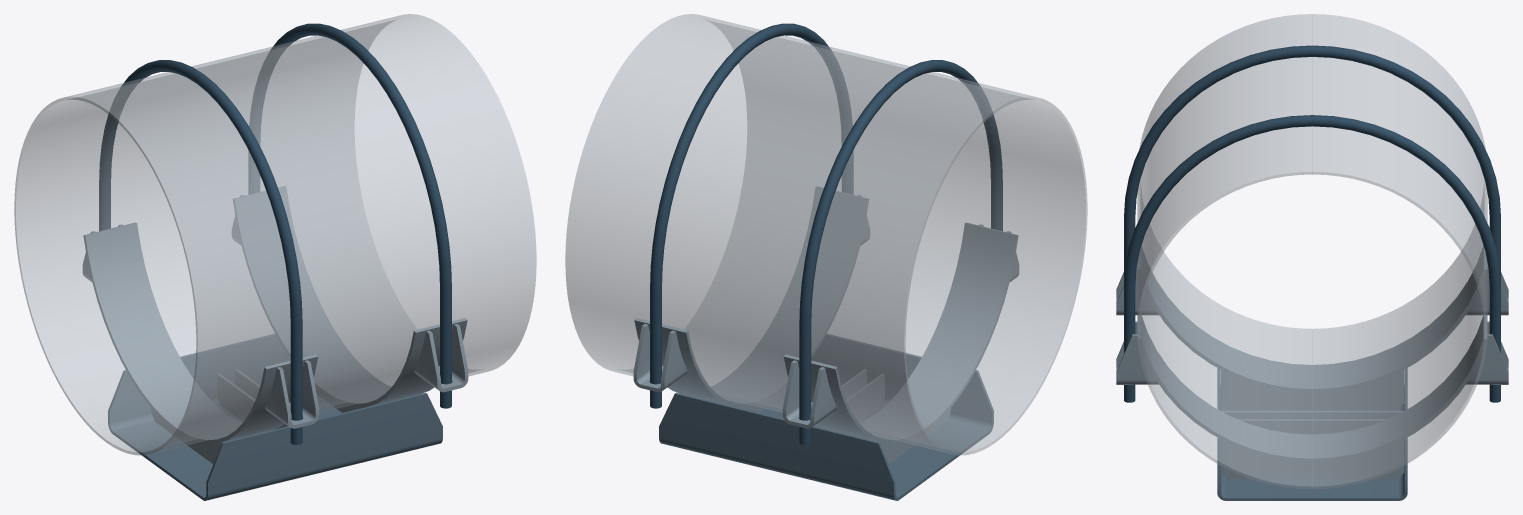
File: TS-626.00.000-114-opora-dn920-H100-L680.glb
3 views of the same model, side by side, from view 1: azimuth 30°, elevation 25°; view 2: azimuth 150°, elevation 25°; view 3: azimuth 270°, elevation 25° (orthographic). The views are drawn at different scales.
Parts seen in each view (by area): view 1: truba, skoba_0, podushka_5, podushka_6, homut_0, homut_1, ushko_8, ushko_10, rebro5_3, rebro4_1; view 2: truba, skoba_0, podushka_5, podushka_6, homut_0, homut_1, ushko_7, ushko_9, rebro5_3, rebro4_1; view 3: truba, podushka_6, podushka_5, homut_1, homut_0, skoba_0, rebro4_1, rebro4_2, rebro5_4, rebro5_3, ushko_9, ushko_10 (+2 smaller).
Part boxes in pixels (x1,y1,x2,y2): truba: [14, 14, 536, 455]; skoba_0: [108, 334, 442, 500]; podushka_5: [83, 222, 318, 443]; podushka_6: [233, 186, 467, 407]; homut_0: [99, 60, 302, 444]; homut_1: [248, 23, 451, 408]; ushko_8: [265, 360, 319, 428]; ushko_10: [414, 324, 468, 392]; rebro5_3: [217, 374, 287, 429]; rebro4_1: [151, 408, 247, 463]; truba: [565, 14, 1087, 455]; skoba_0: [659, 334, 993, 500]; podushka_5: [783, 222, 1018, 443]; podushka_6: [634, 186, 868, 407]; homut_0: [799, 60, 1002, 444]; homut_1: [650, 23, 853, 408]; ushko_7: [782, 360, 836, 428]; ushko_9: [633, 324, 687, 392]; rebro5_3: [814, 374, 884, 429]; rebro4_1: [854, 408, 950, 463]; truba: [1137, 14, 1487, 489]; podushka_6: [1137, 315, 1487, 461]; podushka_5: [1137, 246, 1487, 392]; homut_1: [1124, 115, 1500, 402]; homut_0: [1124, 45, 1500, 282]; skoba_0: [1217, 368, 1407, 500]; rebro4_1: [1220, 370, 1404, 409]; rebro4_2: [1220, 439, 1404, 478]; rebro5_4: [1239, 419, 1385, 434]; rebro5_3: [1221, 411, 1403, 419]; ushko_9: [1466, 321, 1508, 384]; ushko_10: [1116, 321, 1158, 384].
Bounding box in the file's own units: 980 × 1059 × 1030.
